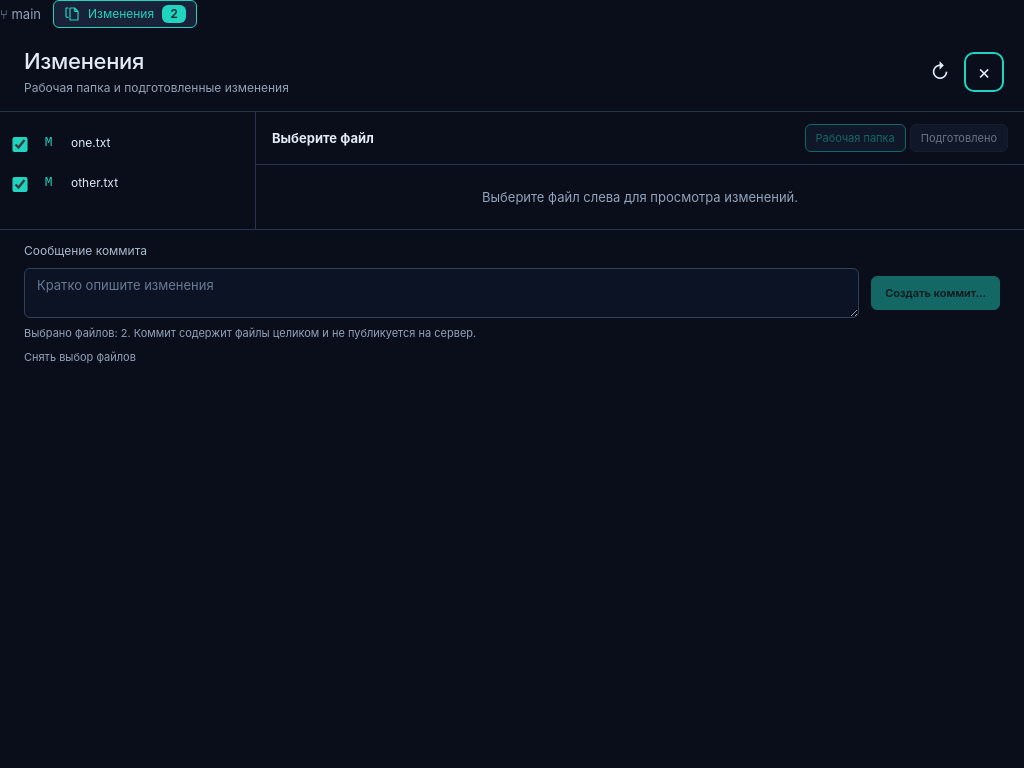
Test: shows retained recovery diagnostics even when the commit and index were published
Click the checkbox named "Выбрать файл: other.txt": x=20, y=184 [12,176,28,192]
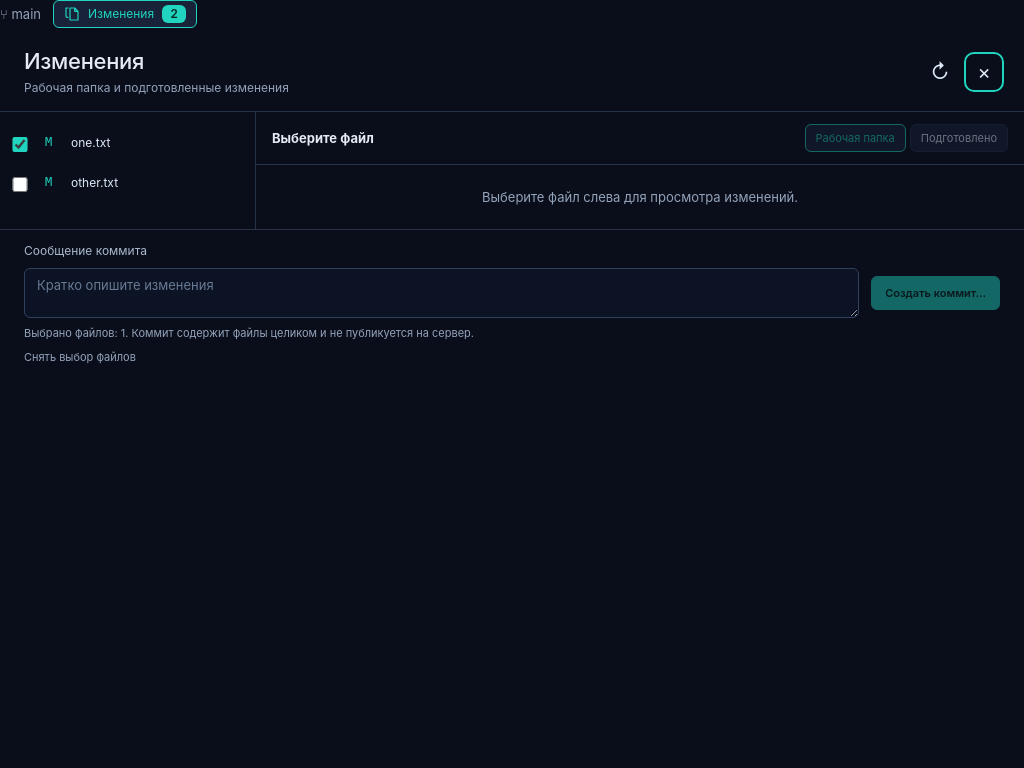
In the text box labelled "Сообщение коммита": x=442, y=293 [24,268,859,318], type "Selected files"
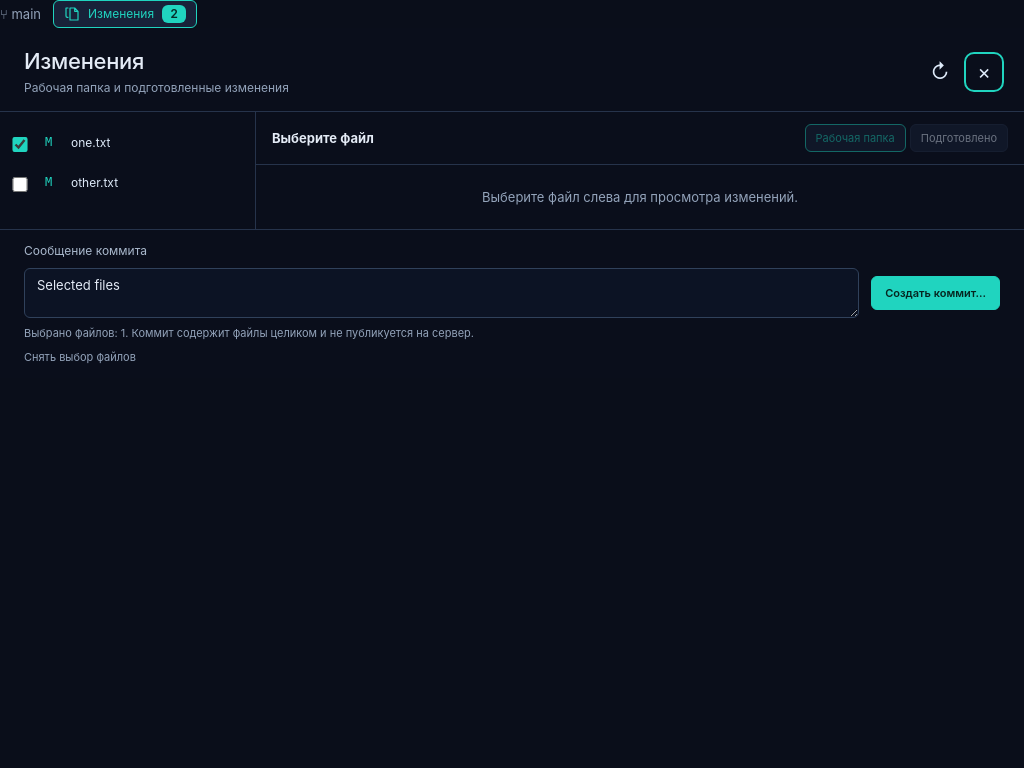
Click the button "Создать коммит…": x=936, y=293 [871,276,1000,310]
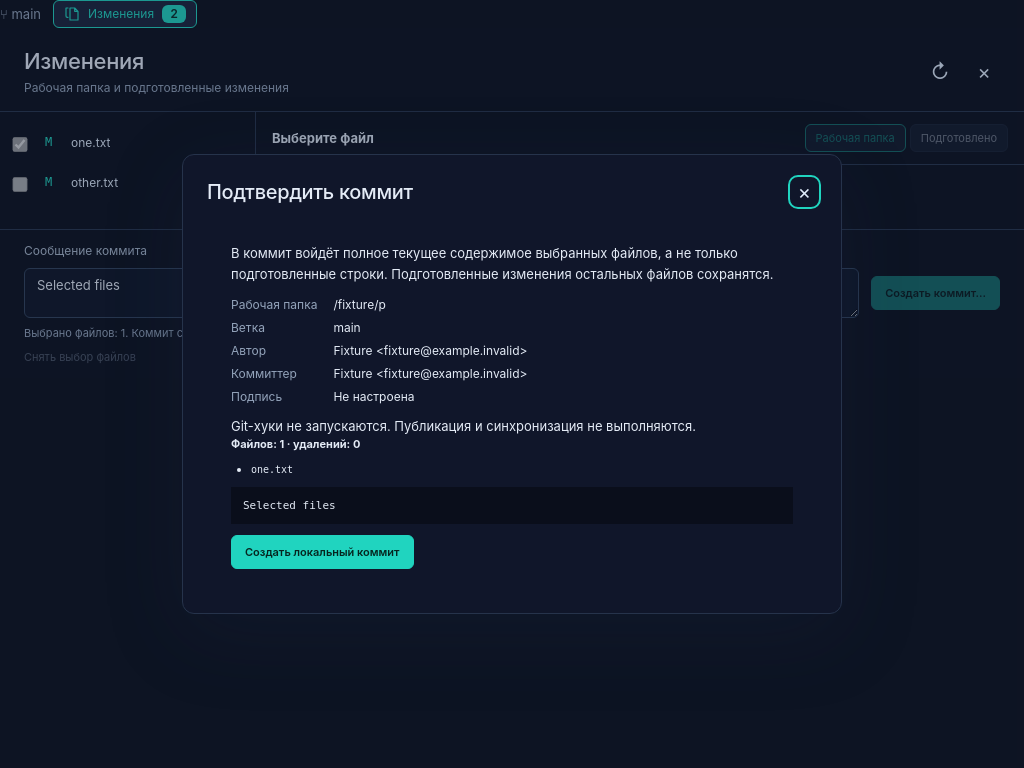
Click the button "Создать локальный коммит": x=322, y=552 [231,535,414,569]
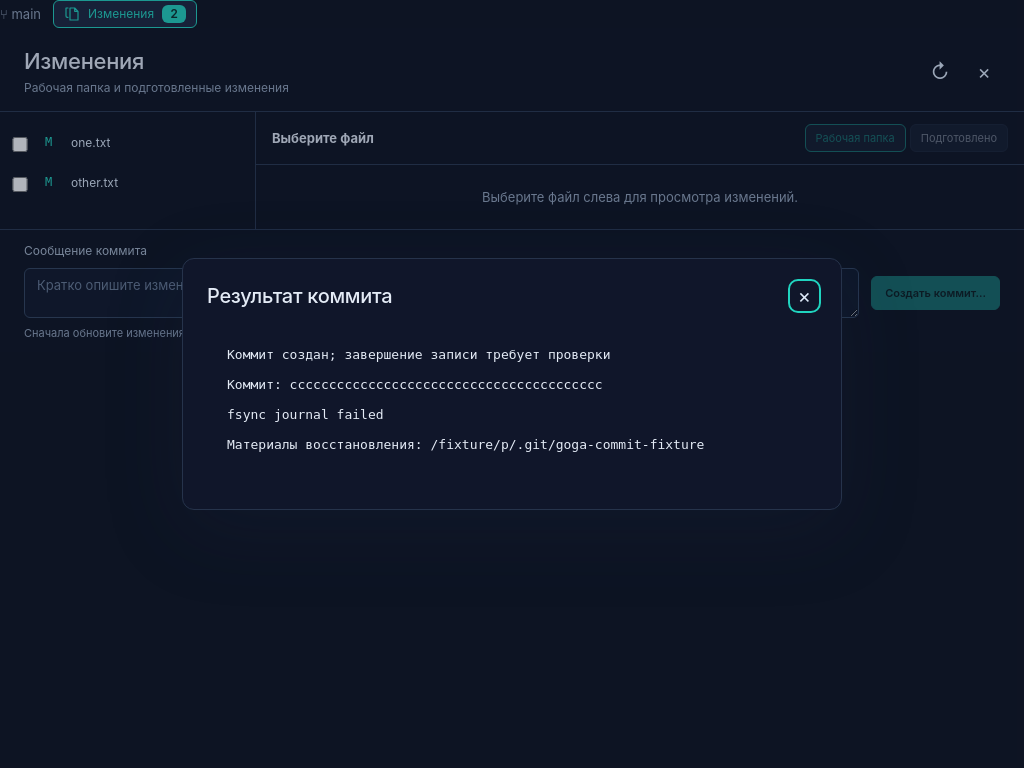
Now the text "fsync journal failed" is shown, box [227,347,704,452]
Now the text box labelled "Сообщение коммита" is empty, box [24,268,859,318]
Click the button named "Закрыть результат коммита": x=804, y=296 [792,283,817,309]
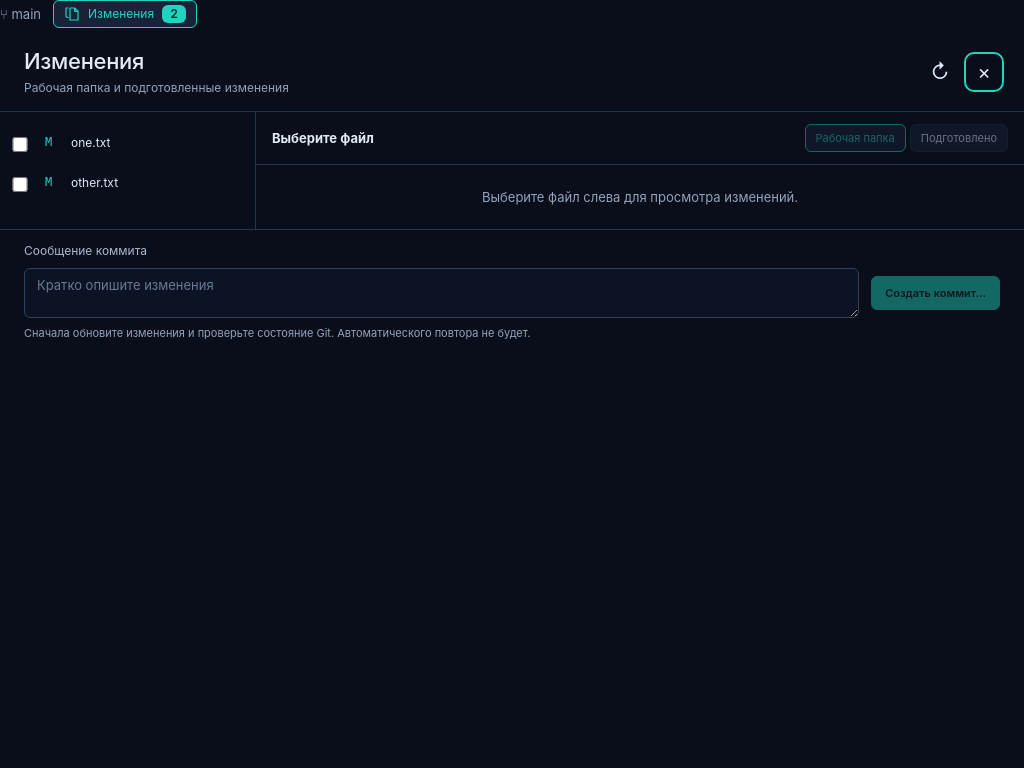
Now the dialog is gone
